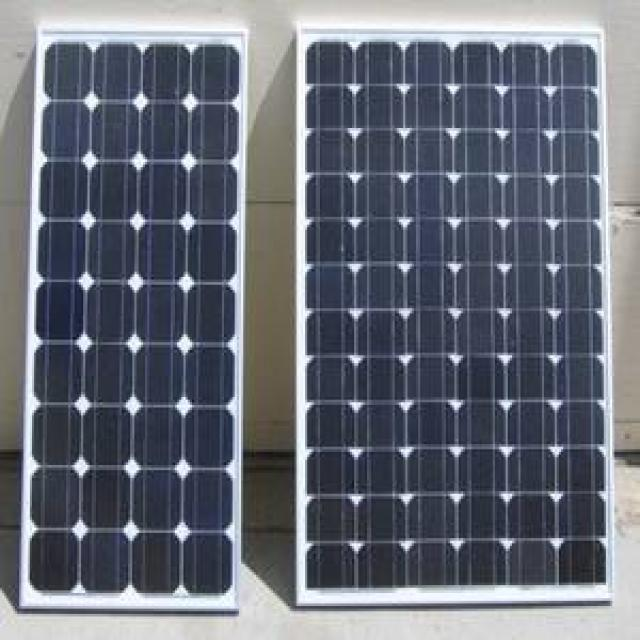clean-solar-panel: (299, 32, 609, 601), (22, 41, 240, 598)
